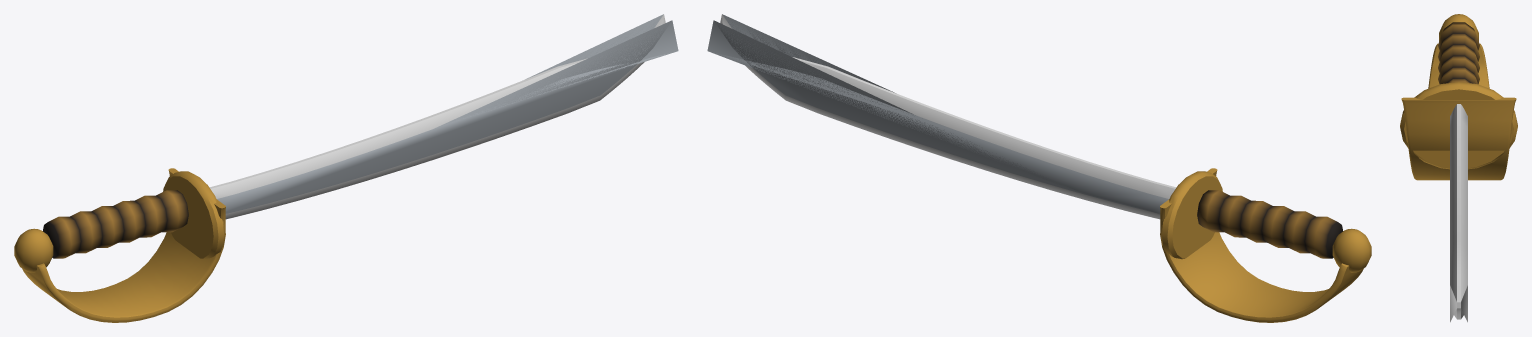
The model's file is sword_cutlass.glb.
3 renders of one model, left to right at view 1: azimuth 30°, elevation 25°; view 2: azimuth 150°, elevation 25°; view 3: azimuth 270°, elevation 25°, orthographic. The views are drawn at different scales.
Parts seen in each view (by area): view 1: sword_cutlass; view 2: sword_cutlass; view 3: sword_cutlass.
Part boxes in pixels (x1=…): sword_cutlass: x1=14, y1=14, x2=678, y2=322; sword_cutlass: x1=707, y1=14, x2=1371, y2=322; sword_cutlass: x1=1400, y1=14, x2=1517, y2=322.
Size of the model in its own units: 1.27 by 0.2907 by 0.184.
